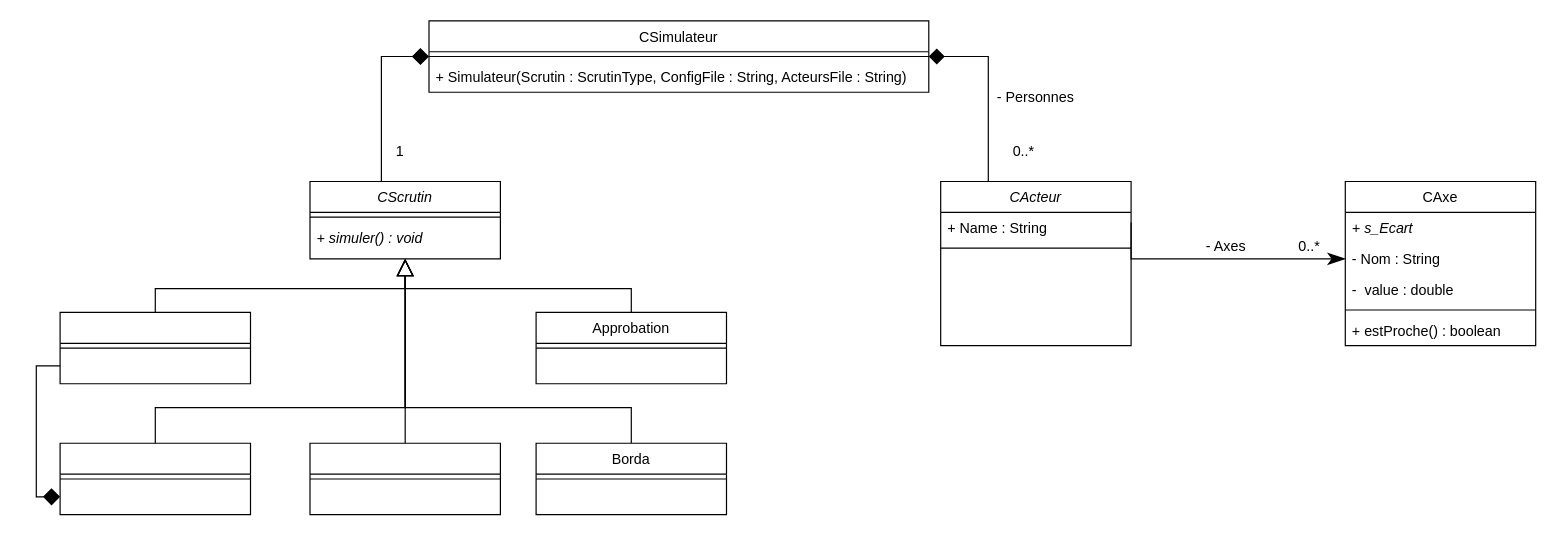
The diagram is 1557 pixels wide and 536 high, and some of its shapes have lost their labels. Each missing label, with the centre of its shape:
"Alternatif" belongs at [404,478].
"Majoritaire1Tour" belongs at [154,347].
"Majoritaire2Tour" belongs at [154,478].
